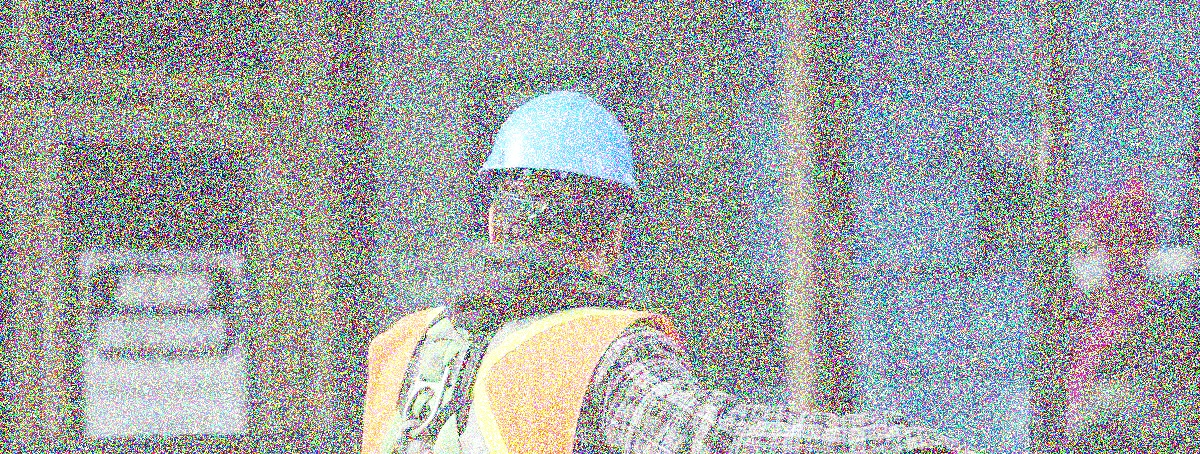helmet: (474, 88, 647, 297)
vest: (356, 278, 708, 454)
